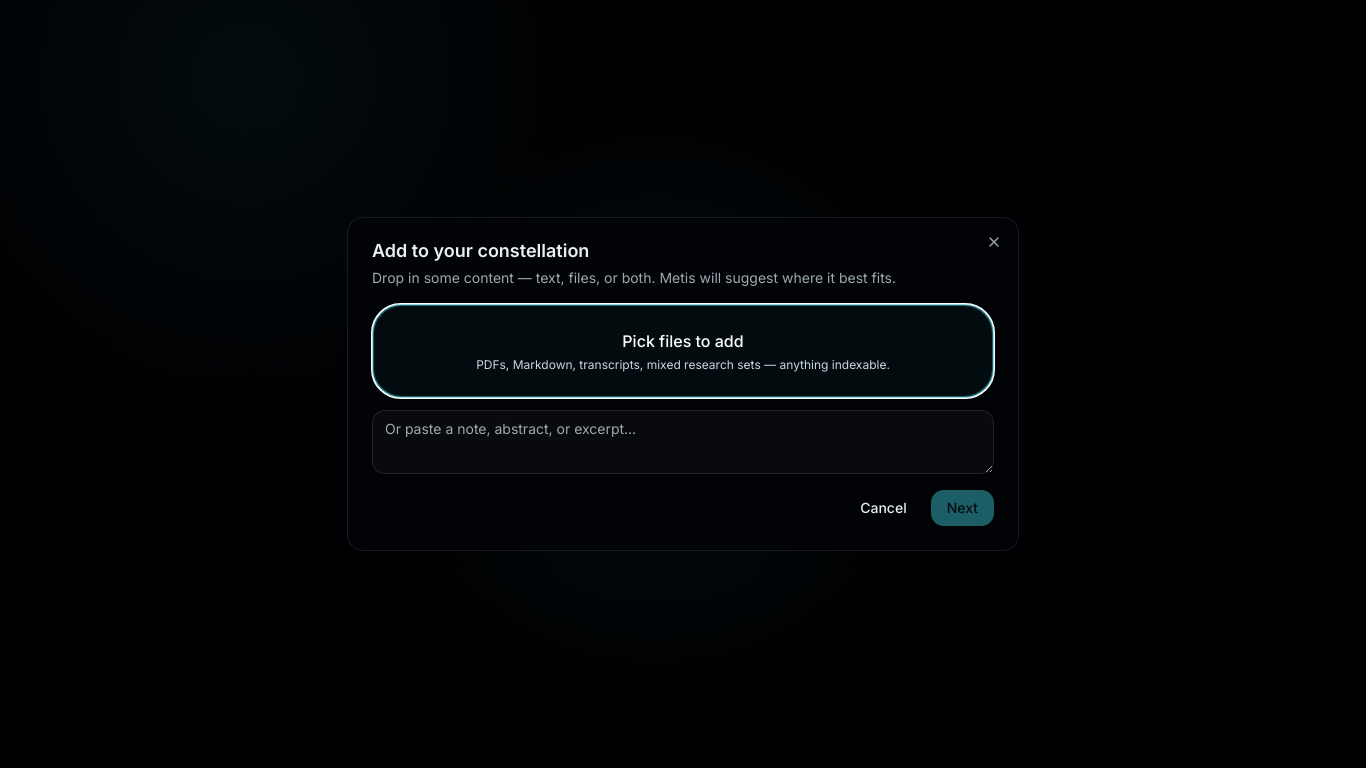
Test: AddStarDialog › clamps out-of-range similarity values to [0, 100]% in label and aria-label
Type "any seed" into the text box with test id "add-star-dialog-textarea".
click(683, 442); type("any seed")  # box [372, 410, 994, 474]
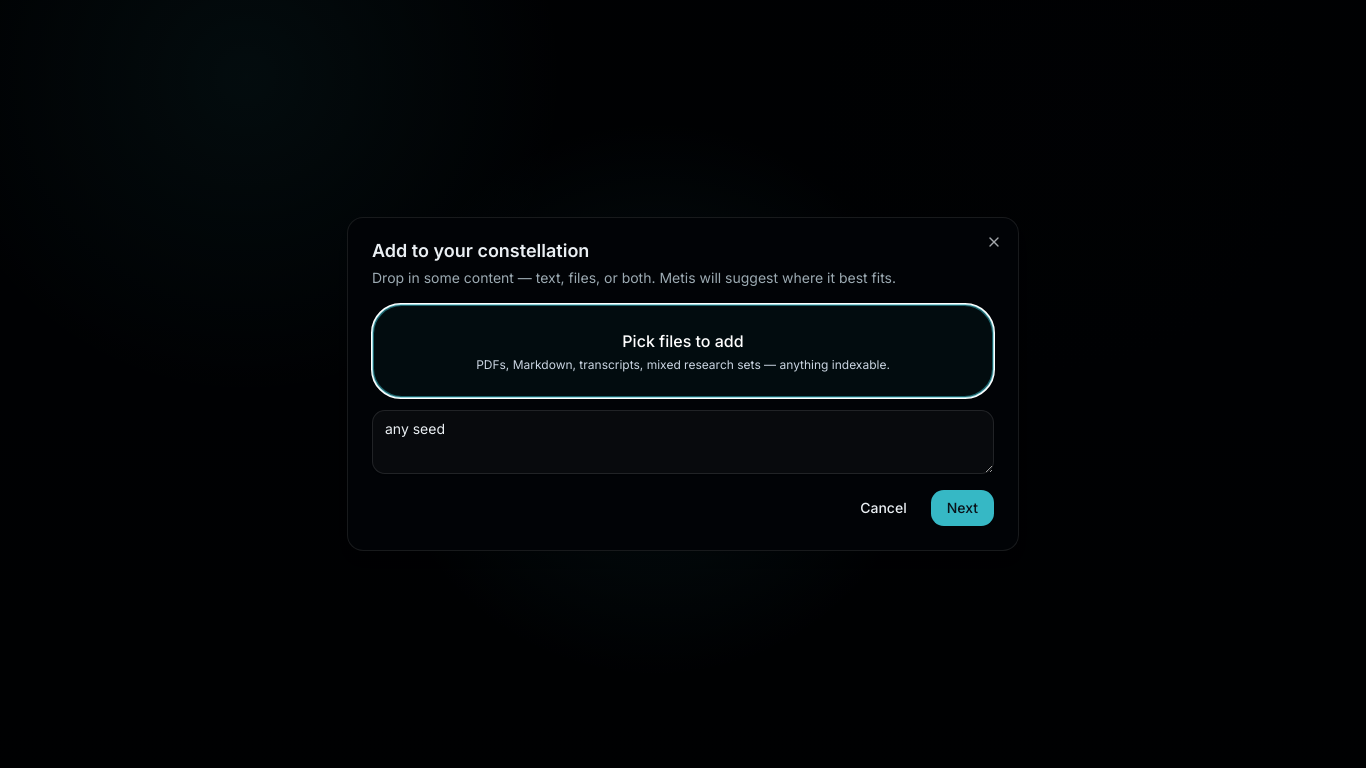
Click the button with test id "add-star-dialog-next".
click(962, 508)  # box [931, 490, 994, 526]
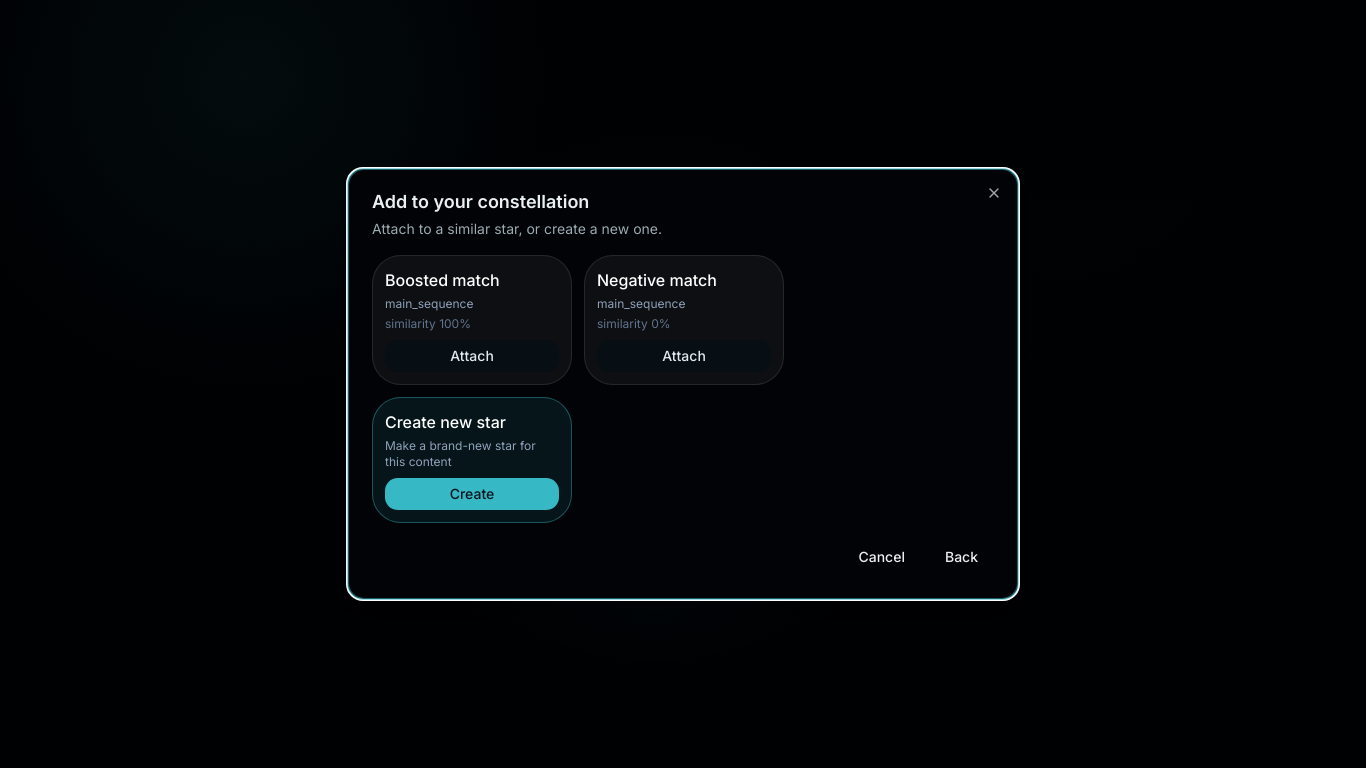
Now the element with test id "add-star-dialog-rec-star-high" shows "similarity 100%", box [372, 255, 572, 385]
Now the element with test id "add-star-dialog-rec-star-neg" shows "similarity 0%", box [584, 255, 784, 385]
